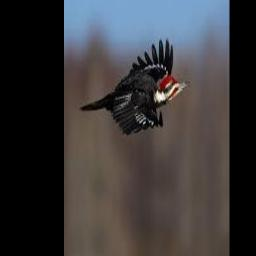Woodpecker: (80, 38, 191, 135)
